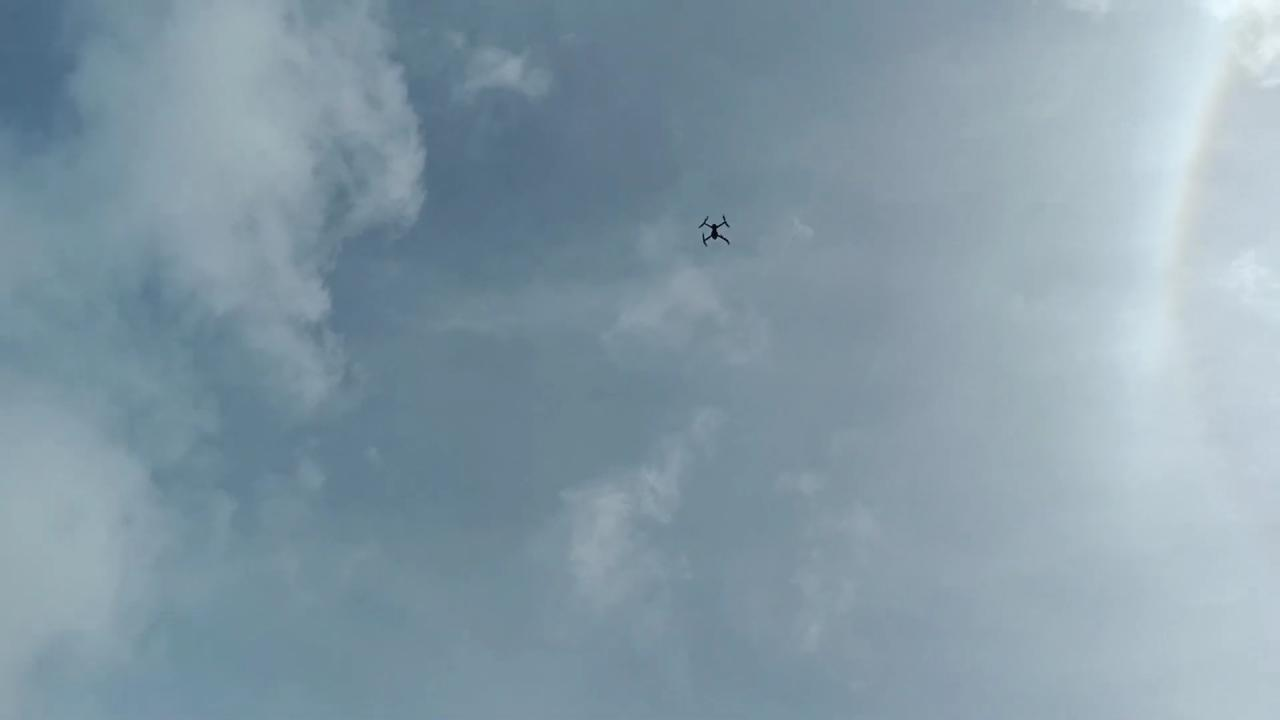Drone: (685, 205, 743, 252)
